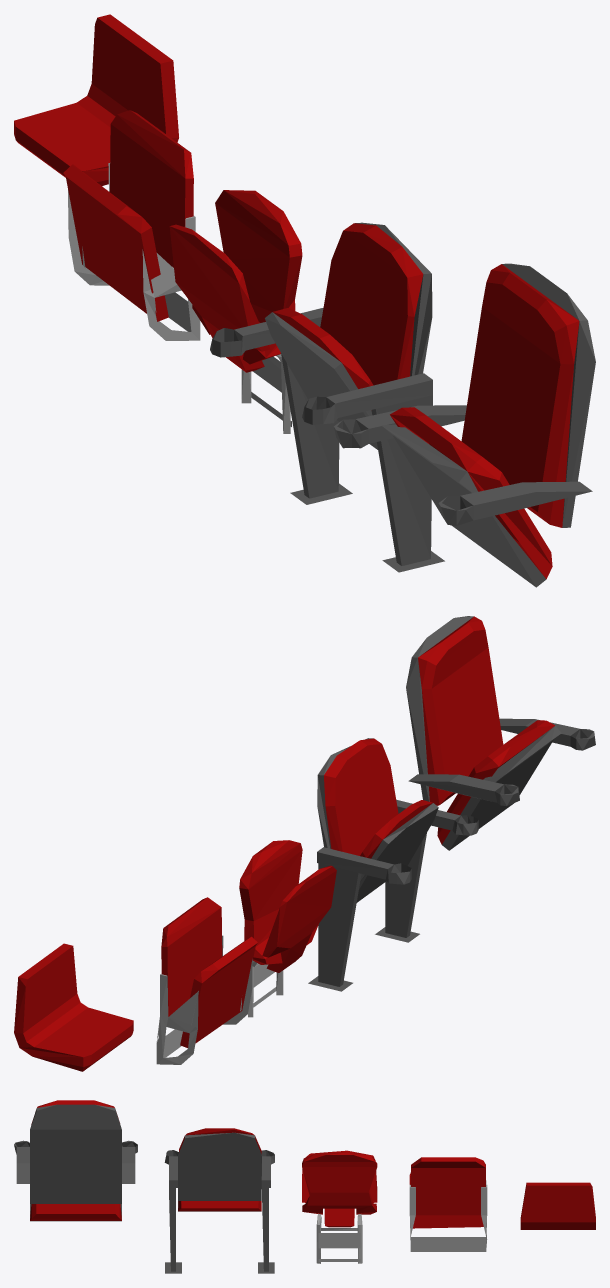
File: arena-seats.lod0.glb
The picture shows the model from 3 angles, top to bottom: view 1: azimuth 30°, elevation 25°; view 2: azimuth 150°, elevation 25°; view 3: azimuth 270°, elevation 25°; orthographic projection. The views are drawn at different scales.
Parts seen in each view (by area): view 1: Material2; view 2: Material2; view 3: Material2.
Part boxes in pixels (x1,y1,x2,y2): Material2: (14, 14, 595, 587); Material2: (14, 616, 595, 1071); Material2: (14, 1100, 595, 1273).
Size of the model in its own units: 1.32 by 1.86 by 5.7.
